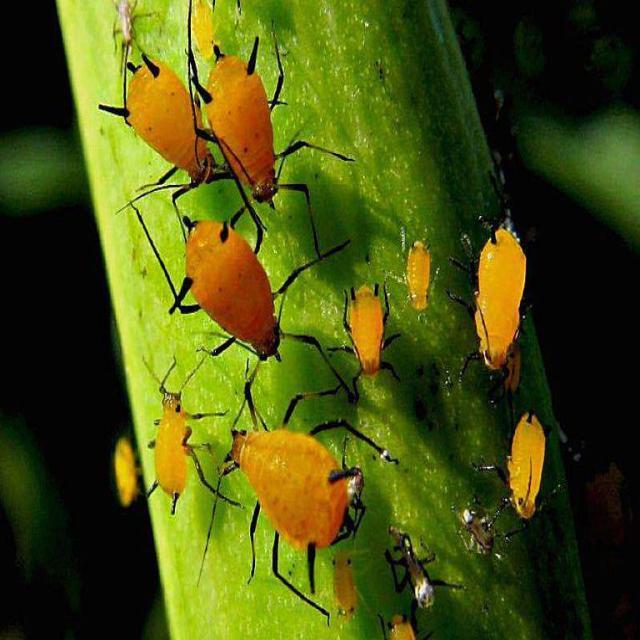aphid: (148, 188, 352, 402), (215, 388, 379, 603), (186, 56, 348, 253), (460, 220, 533, 380), (331, 284, 405, 410), (138, 385, 200, 497), (501, 408, 549, 524), (400, 240, 436, 314)
